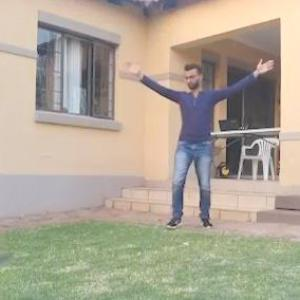takeoff: (126, 57, 274, 221)
